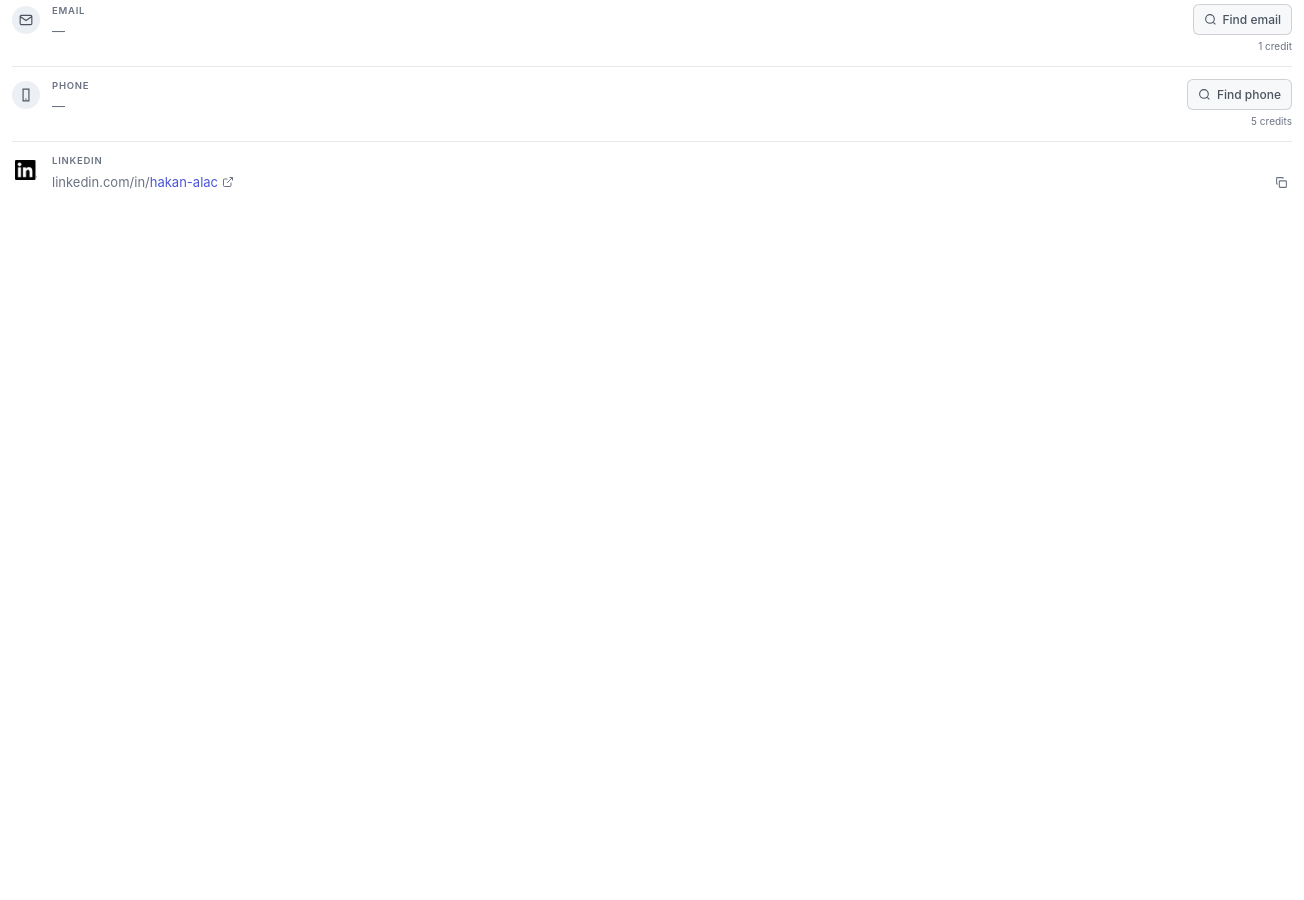
it: ContactPanel › hands the answer back and toasts a miss
Click the button "Find email": (1242, 20) x1=1192 y1=4 x2=1292 y2=35
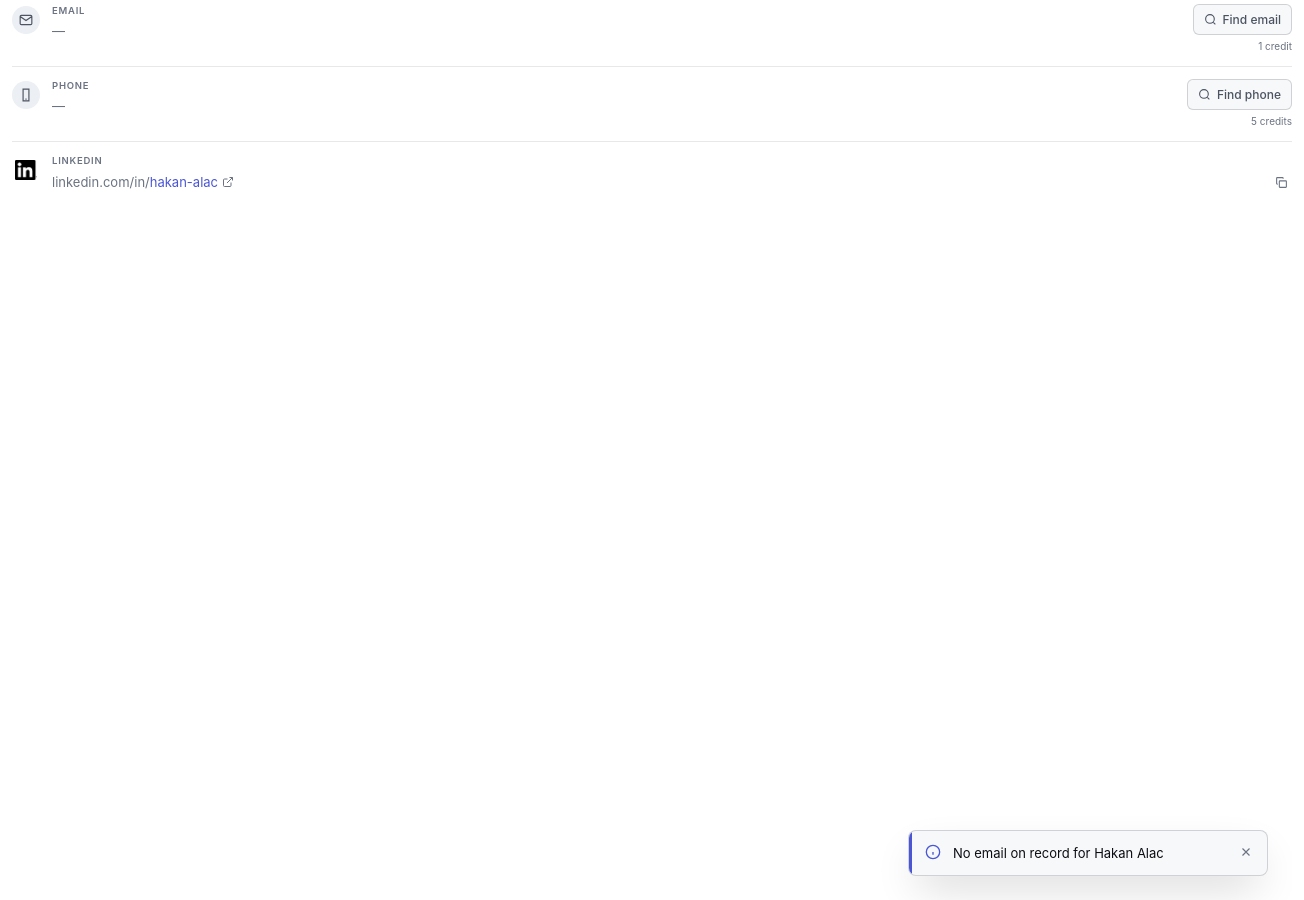
Now the message reads "No email on record for Hakan Alac", box x1=953 y1=845 x2=1164 y2=861
